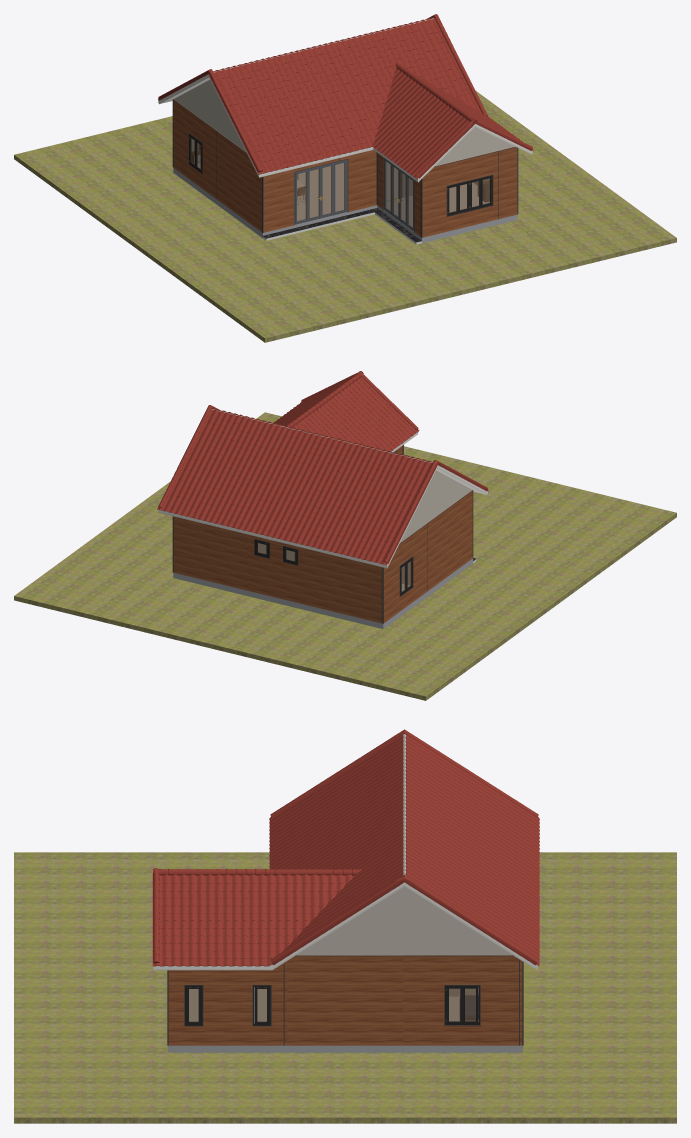
3 views of the same model, one above another, from view 1: azimuth 30°, elevation 25°; view 2: azimuth 150°, elevation 25°; view 3: azimuth 270°, elevation 25° (orthographic). The views are drawn at different scales.
Parts seen in each view (by area): view 1: Component#6, Diềm mái · diềm rìa · tường hồi, Ultra Panel 16 mm PN7S-03 4000x380 (×5), Lớp lát nền (×2), Component#10, Bê tông; view 2: Component#6, Ultra Panel 16 mm PN7S-03 4000x380 (×7), Ultra Panel 16 mm PN7S-03 3924x380 (lẻ) (×7), Diềm mái · diềm rìa · tường hồi; view 3: Component#6, Ultra Panel 16 mm PN7S-03 3992x380 (lẻ) (×9), Ultra Panel 16 mm PN7S-03 4000x380 (×9), Diềm mái · diềm rìa · tường hồi, Bê tông (×3), Lớp lát nền.
Boxes of the visible parts, x1,y1,x2,y2 form: Component#6: [14, 91, 676, 342]; Diềm mái · diềm rìa · tường hồi: [158, 74, 532, 182]; Ultra Panel 16 mm PN7S-03 4000x380 (×5): [422, 151, 497, 237]; Lớp lát nền (×2): [297, 162, 489, 226]; Component#10: [263, 208, 421, 244]; Bê tông: [419, 214, 517, 243]; Component#6: [14, 412, 676, 700]; Ultra Panel 16 mm PN7S-03 4000x380 (×7): [305, 552, 380, 623]; Ultra Panel 16 mm PN7S-03 3924x380 (lẻ) (×7): [173, 520, 247, 590]; Diềm mái · diềm rìa · tường hồi: [158, 432, 487, 568]; Component#6: [14, 852, 676, 1123]; Ultra Panel 16 mm PN7S-03 3992x380 (lẻ) (×9): [287, 955, 403, 1045]; Ultra Panel 16 mm PN7S-03 4000x380 (×9): [168, 955, 518, 1045]; Diềm mái · diềm rìa · tường hồi: [153, 882, 537, 970]; Bê tông (×3): [173, 1045, 517, 1052]; Lớp lát nền: [189, 987, 266, 1023].
Size of what is drawn, in the model's own units: 21.62 by 7.16 by 22.83.
96 materials, 25 textured.
